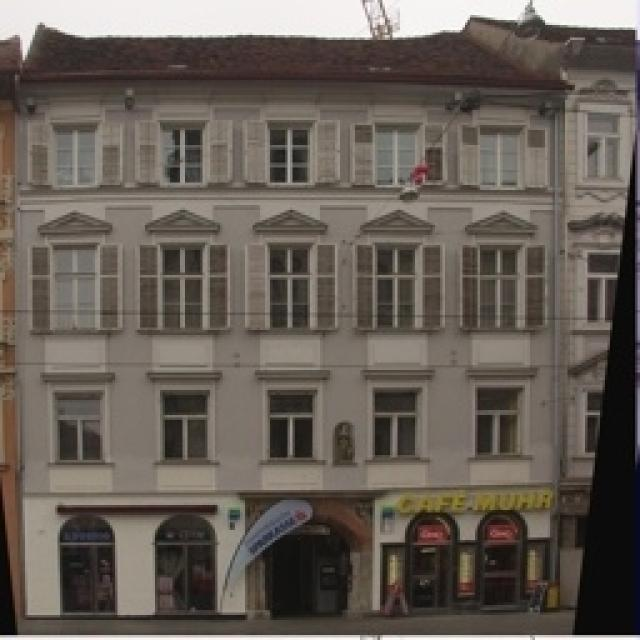building: (30, 30, 640, 640)
